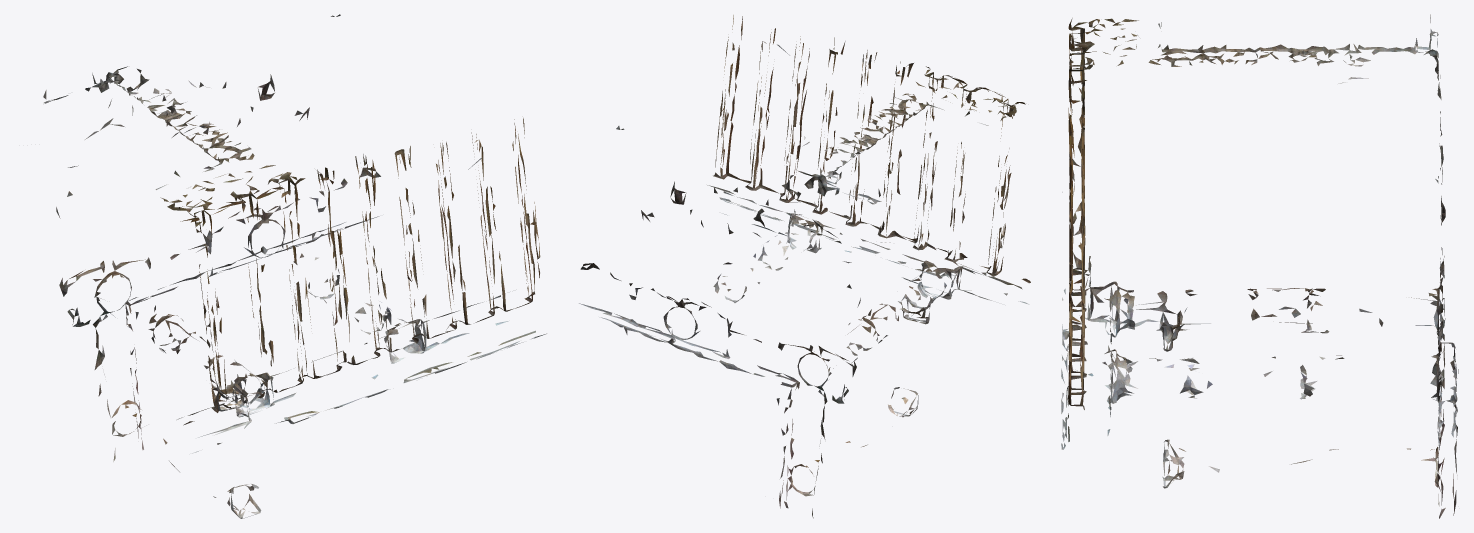
The picture shows the model from 3 angles, left to right: view 1: azimuth 30°, elevation 25°; view 2: azimuth 150°, elevation 25°; view 3: azimuth 270°, elevation 25°; orthographic projection. The views are drawn at different scales.
Size of the model in its own units: 6.92 by 7.19 by 5.59.
1 material, 1 textured.
